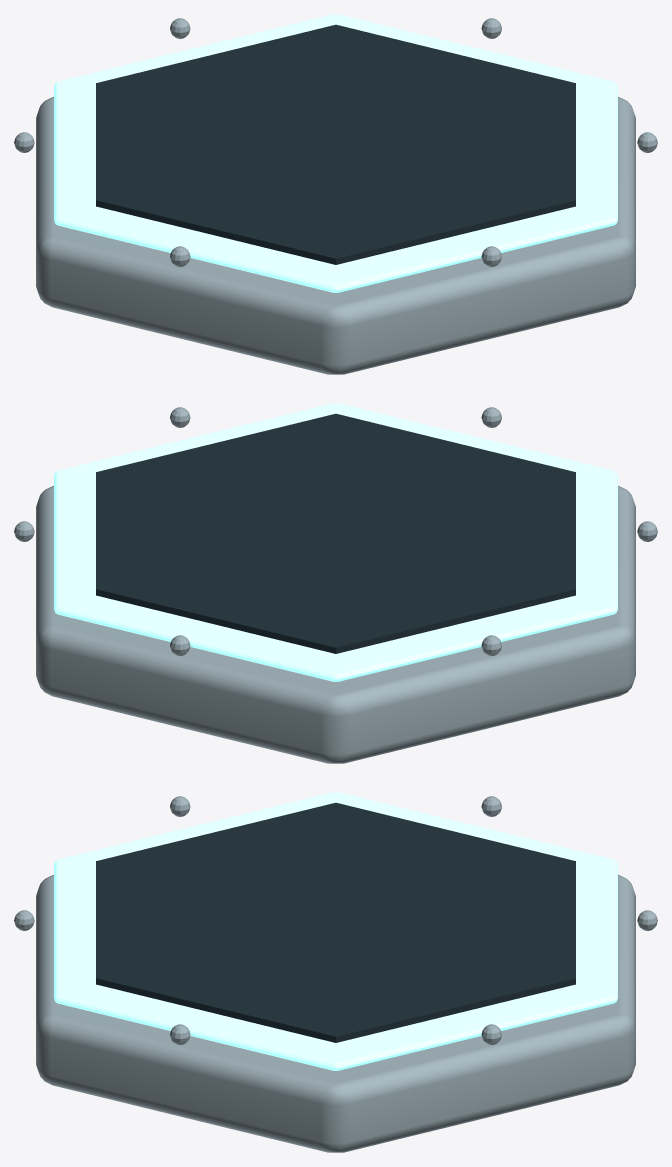
File: pickup-cinematic.glb
The picture shows the model from 3 angles, top to bottom: view 1: azimuth 30°, elevation 25°; view 2: azimuth 150°, elevation 25°; view 3: azimuth 270°, elevation 25°; orthographic projection.
Parts seen in each view (by area): view 1: pickup capsule; view 2: pickup capsule; view 3: pickup capsule.
Boxes of the visible parts, left/top/right/bottom form: pickup capsule: left=14, top=14, right=657, bottom=374; pickup capsule: left=14, top=403, right=657, bottom=763; pickup capsule: left=14, top=792, right=657, bottom=1152.
Size of the model in its own units: 1.97 by 0.33 by 1.86.
